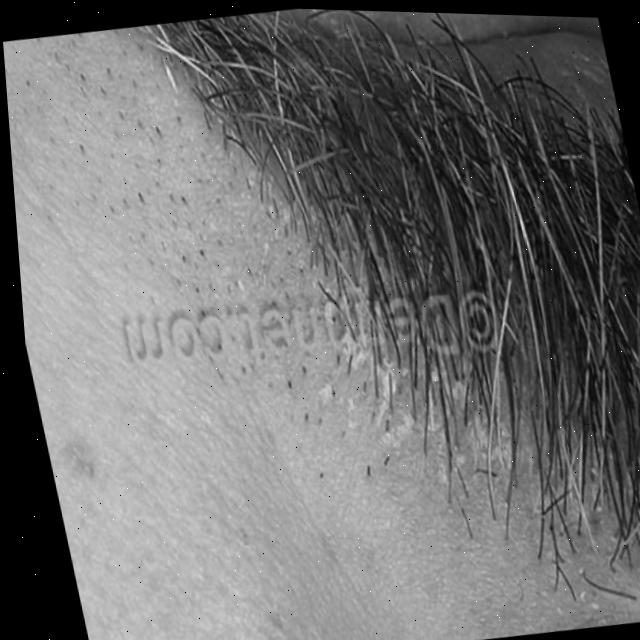Eczema: (300, 279, 640, 586)
